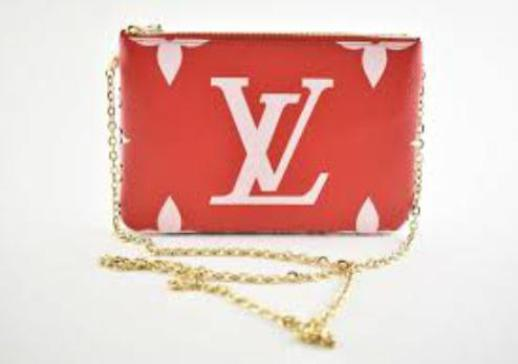LOUIS-VUITTON: (193, 59, 338, 223)
